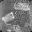people: (2, 12, 15, 25)
